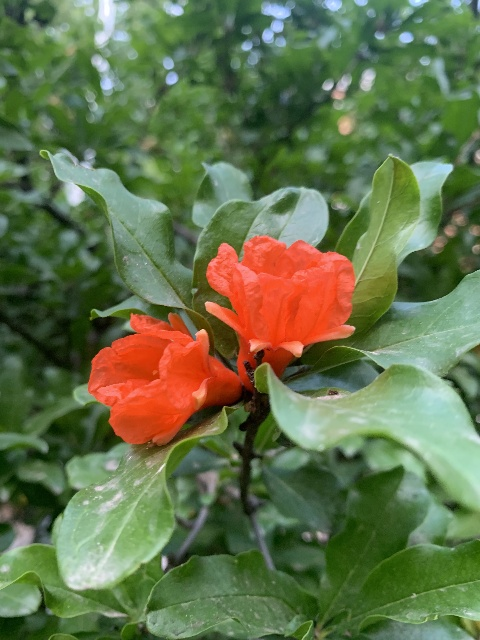flower: (203, 234, 357, 392), (87, 310, 243, 446)
